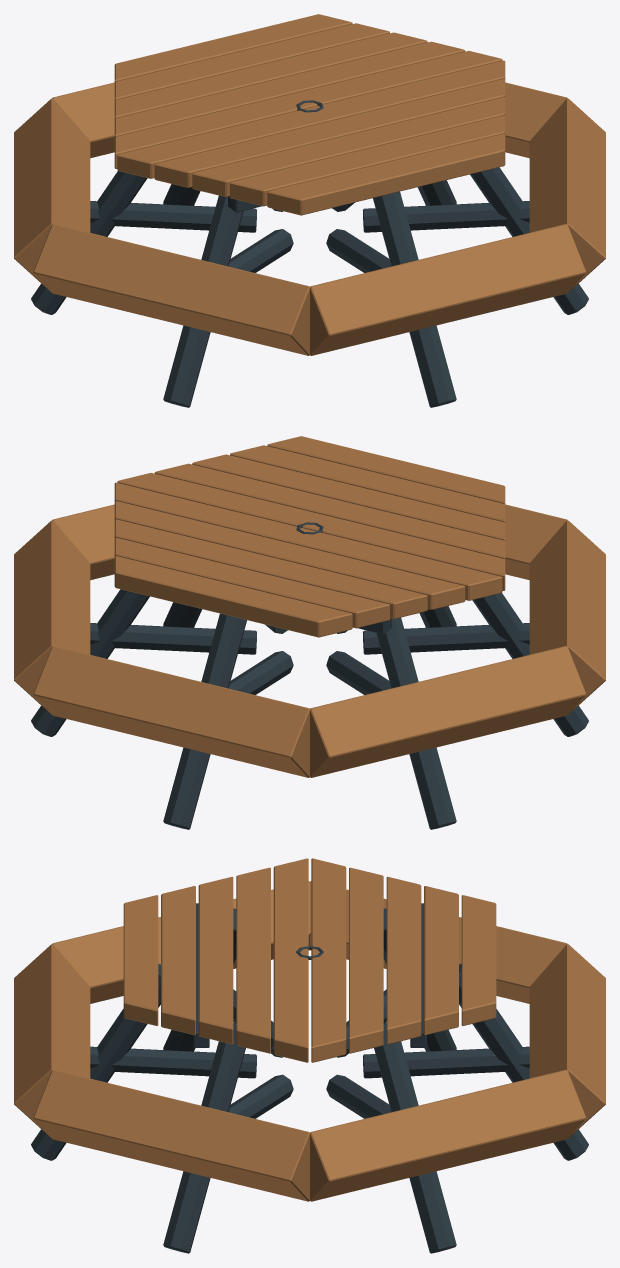
Rendered from b01_hexagonal_family_picnic_table.glb.
3 views of the same model, one above another, from view 1: azimuth 30°, elevation 25°; view 2: azimuth 150°, elevation 25°; view 3: azimuth 270°, elevation 25° (orthographic).
Parts seen in each view (by area): view 1: b01_hexagonal_family_picnic_table; view 2: b01_hexagonal_family_picnic_table; view 3: b01_hexagonal_family_picnic_table.
Boxes of the visible parts, x1,y1,x2,y2 form: b01_hexagonal_family_picnic_table: (14, 14, 605, 407); b01_hexagonal_family_picnic_table: (14, 436, 605, 829); b01_hexagonal_family_picnic_table: (14, 858, 605, 1253).
Bounding box in the file's own units: 2.37 × 0.8233 × 2.13.
